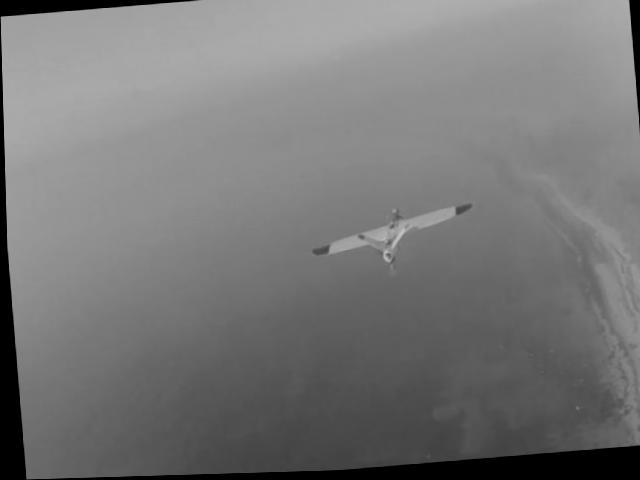hedef: (289, 193, 491, 301)
